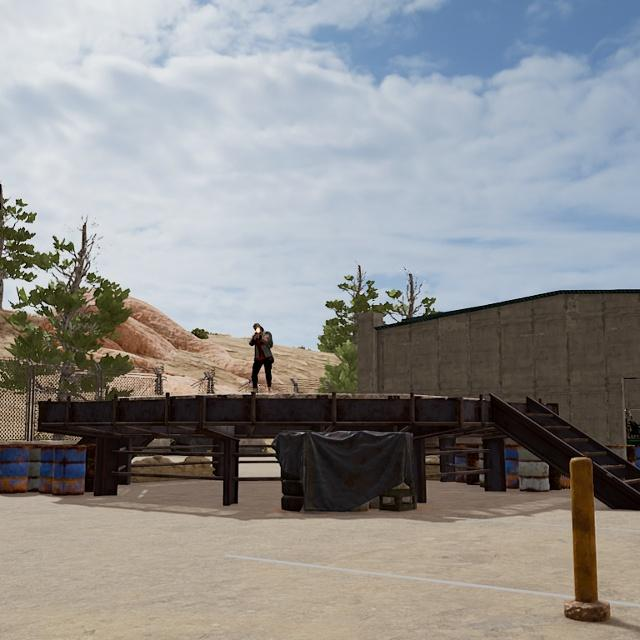head: (251, 323, 265, 334)
people: (249, 322, 275, 395)
